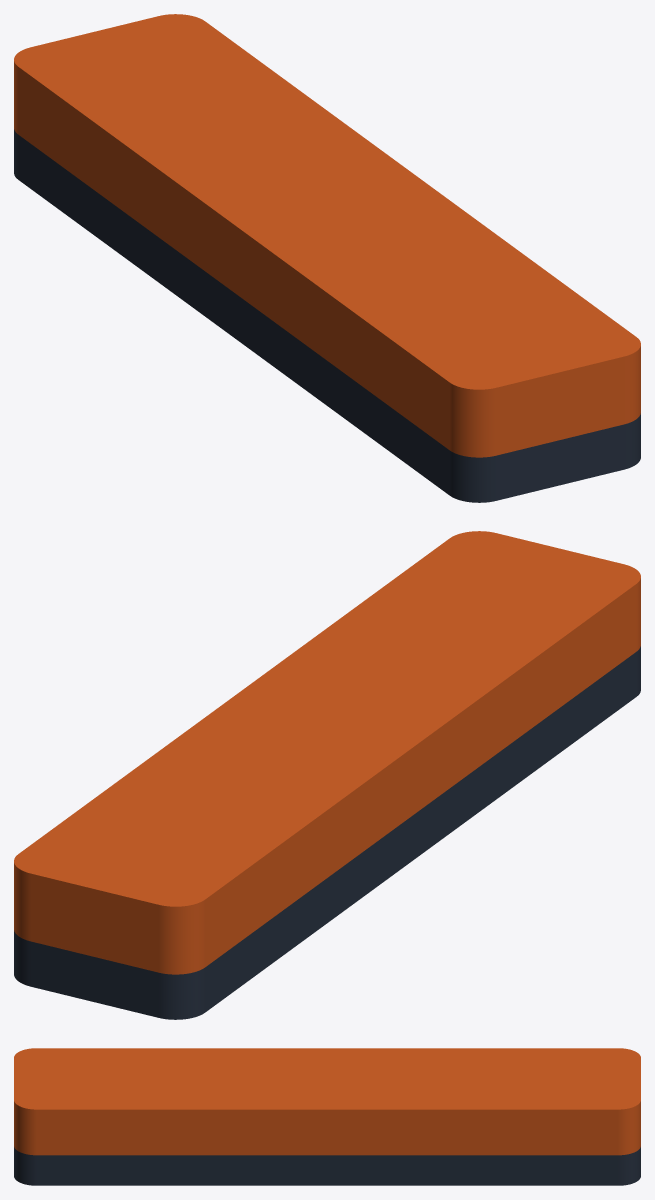
The model's file is enclosure.glb.
The picture shows the model from 3 angles, top to bottom: view 1: azimuth 30°, elevation 25°; view 2: azimuth 150°, elevation 25°; view 3: azimuth 270°, elevation 25°; orthographic projection. The views are drawn at different scales.
Visible parts, largest first — view 1: lid, shell; view 2: lid, shell; view 3: lid, shell.
Part boxes in pixels (<box>): lid: <box>14,14,640,457</box>; shell: <box>14,129,640,502</box>; lid: <box>14,531,640,974</box>; shell: <box>14,646,640,1019</box>; lid: <box>14,1048,640,1155</box>; shell: <box>14,1147,640,1185</box>.
Size of the model in its own units: 0.038 by 0.022 by 0.164.
